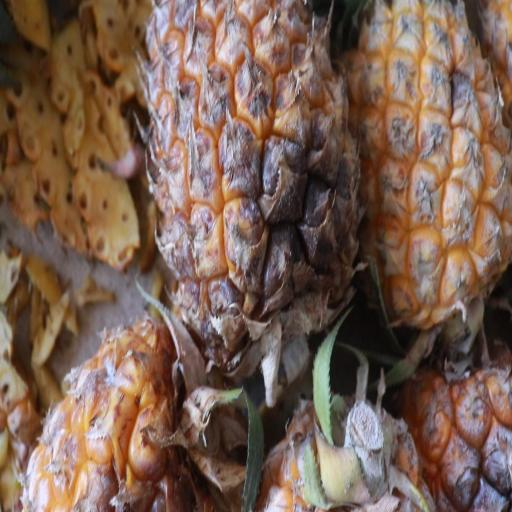Pineapple - v8 v1: (138, 1, 368, 373), (340, 1, 512, 344), (24, 314, 254, 512)
